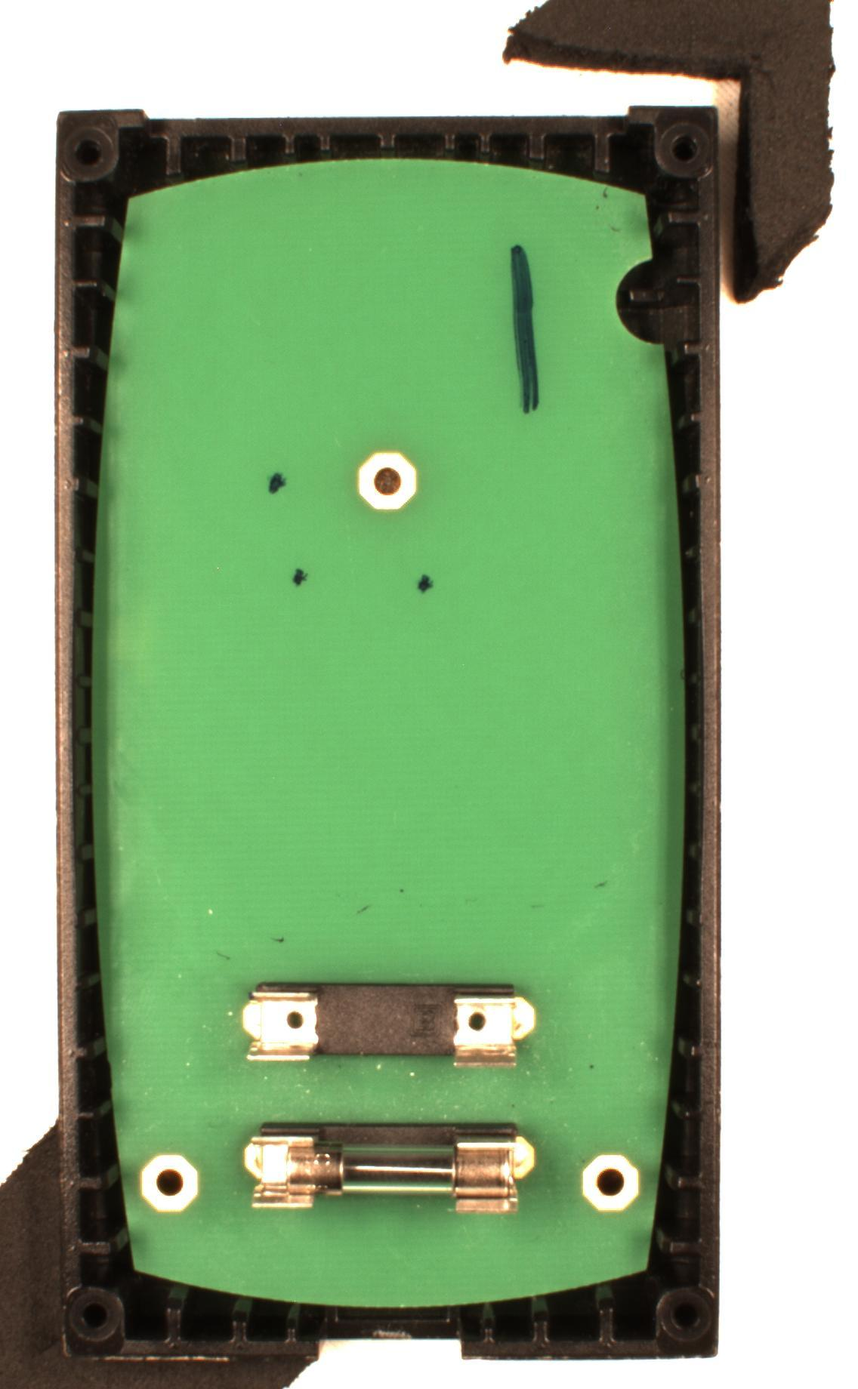Linijsko Ostecene: (509, 244, 542, 416)
Nepostojanje osiguraca: (242, 980, 537, 1068)
Tockasto Ostecenje: (267, 471, 287, 495), (415, 572, 435, 595), (291, 568, 309, 588)
